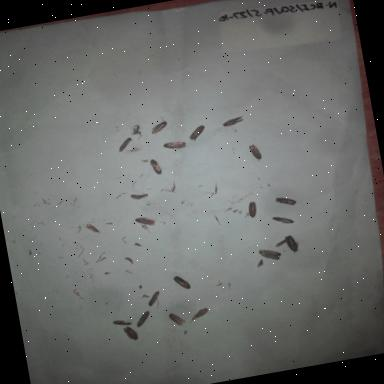pbw: (265, 210, 298, 230), (254, 243, 284, 265), (130, 308, 156, 330), (185, 306, 211, 326), (171, 272, 194, 294), (184, 123, 208, 144), (272, 192, 300, 210), (166, 310, 190, 331), (146, 119, 172, 137), (114, 135, 137, 155), (162, 138, 190, 154), (132, 213, 158, 230), (220, 114, 246, 131), (120, 324, 142, 344), (247, 141, 266, 163), (243, 199, 262, 220), (147, 157, 166, 178), (110, 316, 136, 331), (145, 290, 163, 308), (85, 220, 103, 238), (128, 191, 144, 204), (133, 191, 151, 201)
